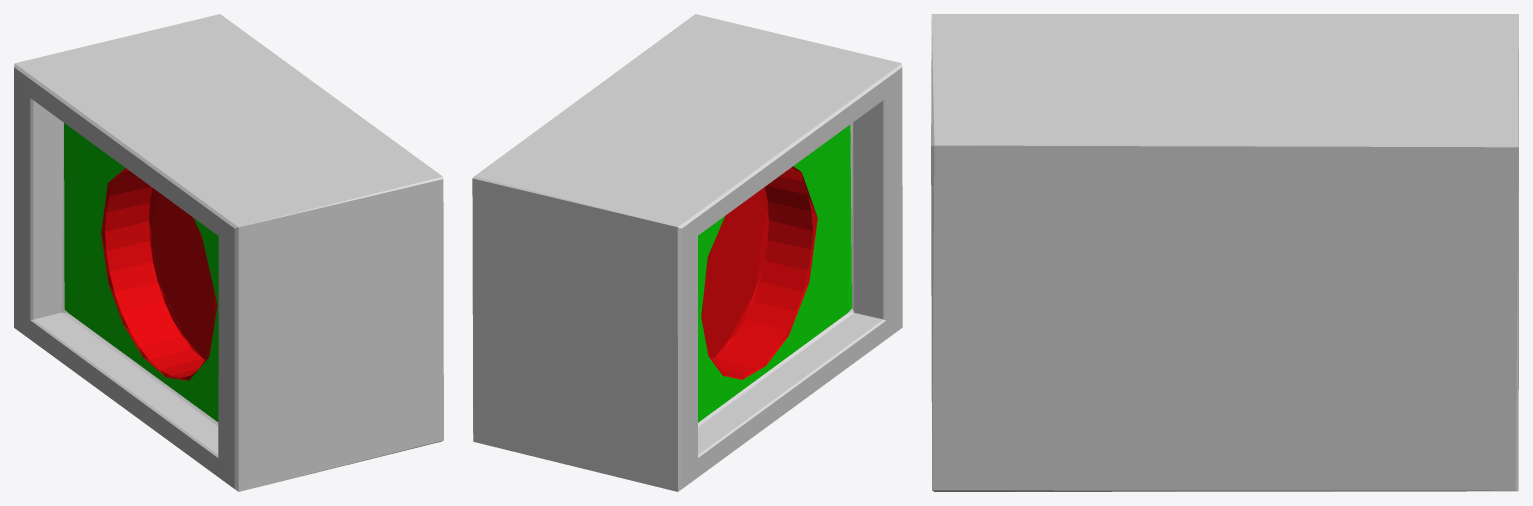
The model's file is Speakers_.fbx.
3 renders of one model, left to right at view 1: azimuth 30°, elevation 25°; view 2: azimuth 150°, elevation 25°; view 3: azimuth 270°, elevation 25°, orthographic. The views are drawn at different scales.
Visible parts, largest first — view 1: Cube.007; view 2: Cube.007; view 3: Cube.007.
Boxes of the visible parts, x1,y1,x2,y2 form: Cube.007: [14, 14, 443, 491]; Cube.007: [472, 14, 902, 491]; Cube.007: [931, 14, 1518, 491].
Size of the model in its own units: 241 by 294 by 450.
